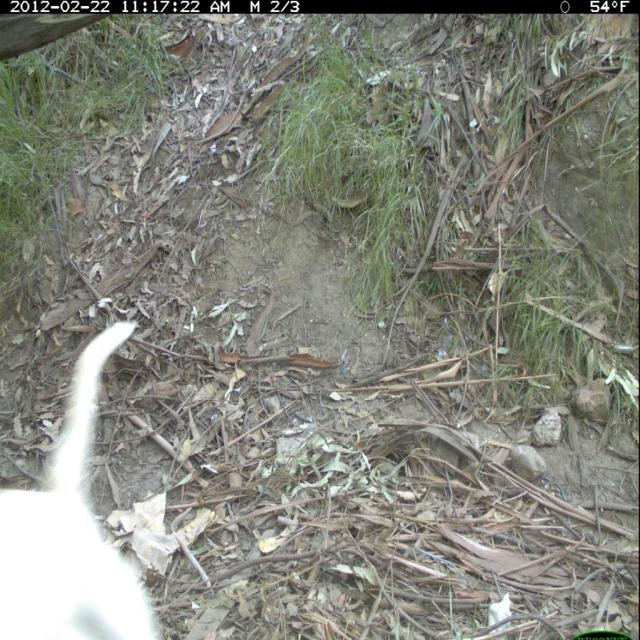dog: (3, 312, 179, 640)
